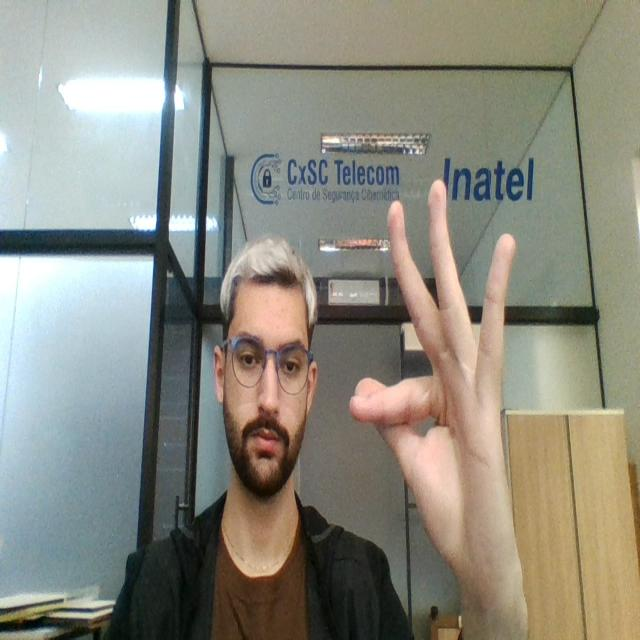F: (352, 171, 532, 617)
